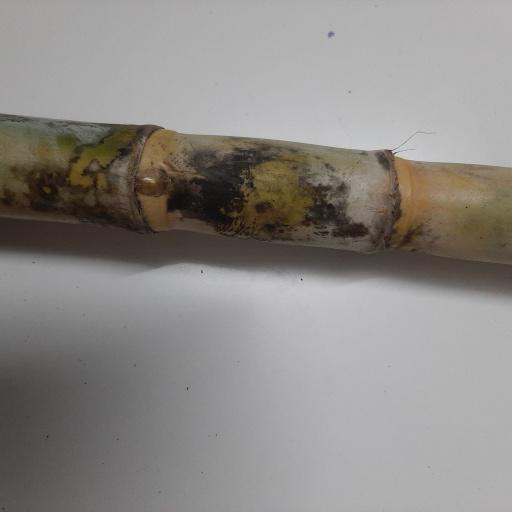Bud: (135, 173, 161, 193)
